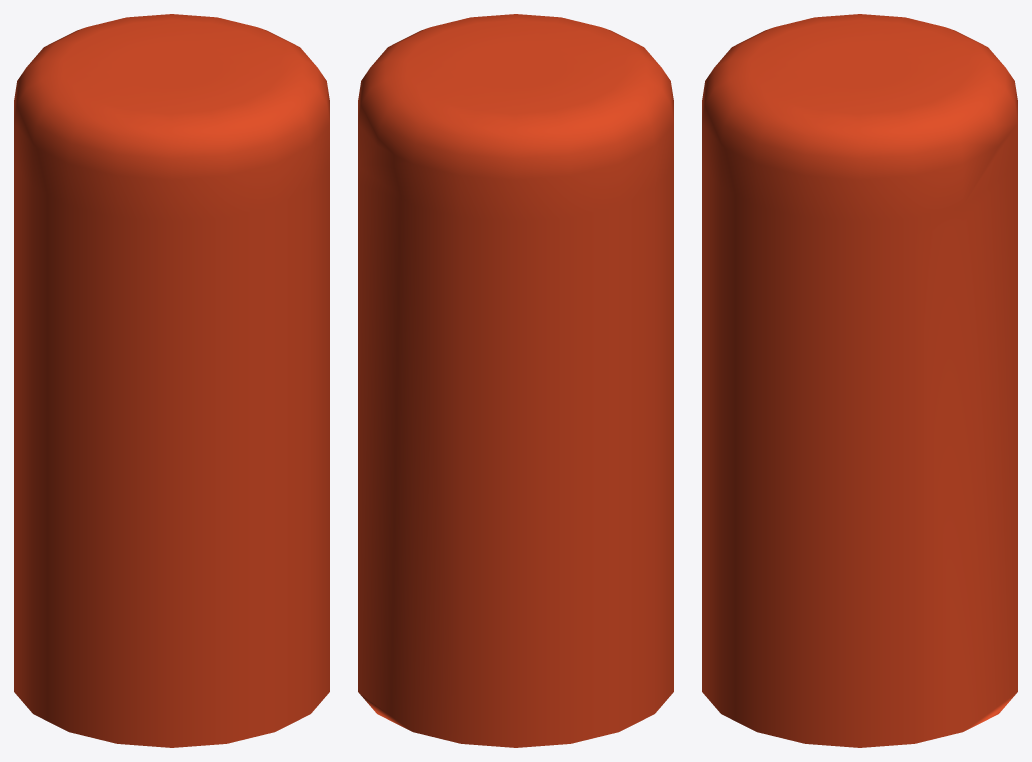
The model's file is SupportColored_MESH.fbx.
3 views of the same model, side by side, from view 1: azimuth 30°, elevation 25°; view 2: azimuth 150°, elevation 25°; view 3: azimuth 270°, elevation 25° (orthographic).
Visible parts, largest first — view 1: SupportColored; view 2: SupportColored; view 3: SupportColored.
Part boxes in pixels (x1,y1,x2,y2): SupportColored: [14, 14, 329, 747]; SupportColored: [358, 14, 673, 747]; SupportColored: [702, 14, 1017, 747].
Size of the model in its own units: 41.45 by 87.46 by 40.82.
1 material, 1 textured.
